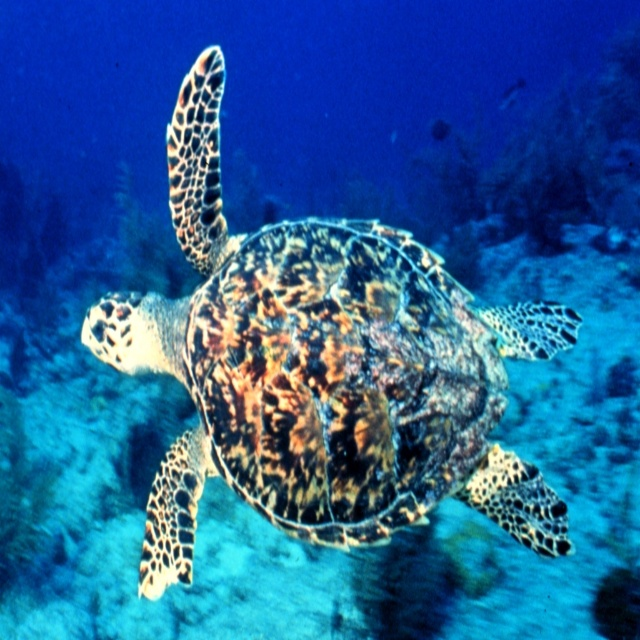Sea turtle: (79, 44, 581, 600)
